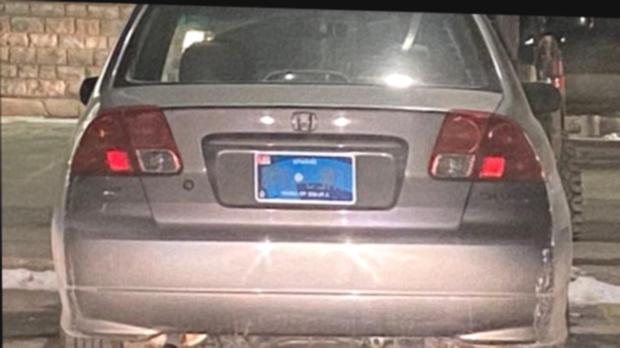License_Plate: (251, 149, 357, 208)
